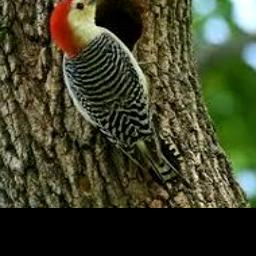Woodpecker: (50, 0, 197, 201)
